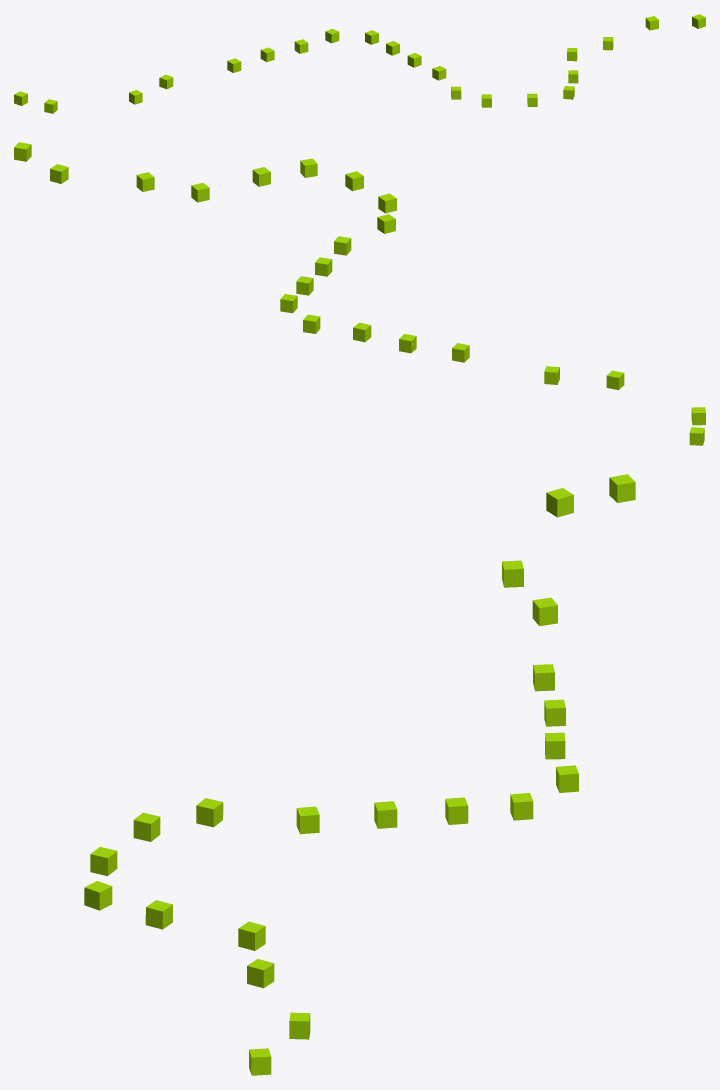
Rendered from subway_map_just_G_stations.glb.
3 views of the same model, one above another, from view 1: azimuth 30°, elevation 25°; view 2: azimuth 150°, elevation 25°; view 3: azimuth 270°, elevation 25° (orthographic). The views are drawn at different scales.
Parts seen in each view (by area): view 1: 04_Nassau_Av_G, 06_Broadway_G, 05_Metropolitan_Lorimer_G, 11_Clinton_Washington_G, 07_Flushing_G.001, 08_Myrtle_Willoughby_G., 12_Fulton_G; view 2: no part large enough to name; view 3: no part large enough to name.
Part boxes in pixels (x1,y1,x2,y2): 04_Nassau_Av_G: [159, 74, 173, 89]; 06_Broadway_G: [260, 47, 274, 62]; 05_Metropolitan_Lorimer_G: [227, 58, 241, 72]; 11_Clinton_Washington_G: [407, 53, 421, 67]; 07_Flushing_G.001: [294, 39, 308, 53]; 08_Myrtle_Willoughby_G.: [325, 28, 339, 43]; 12_Fulton_G: [432, 66, 446, 80].
Bounding box in the file's own units: 27.81 × 0.4025 × 11.1.
